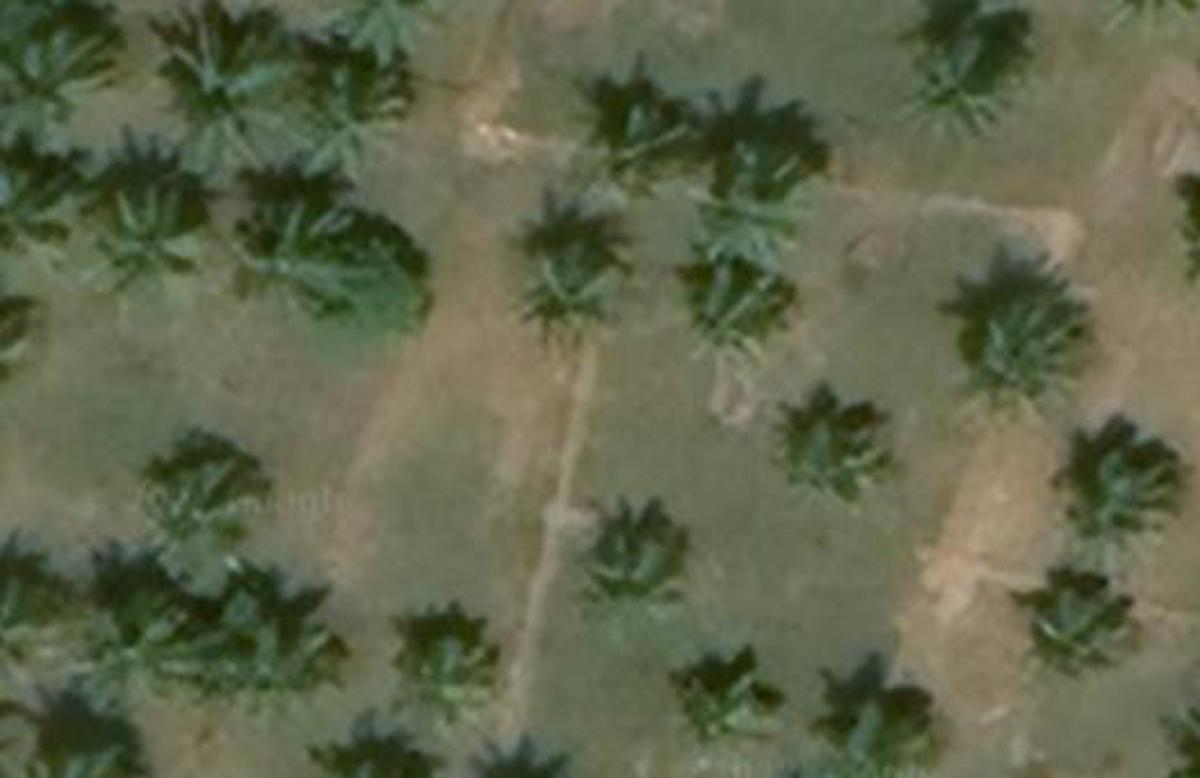coconut: (155, 13, 301, 187), (225, 203, 374, 317), (75, 187, 214, 303), (976, 292, 1097, 412), (1051, 442, 1186, 545), (214, 616, 335, 727), (289, 70, 408, 182), (508, 239, 625, 351), (695, 150, 807, 262), (1024, 579, 1145, 682), (6, 34, 127, 134), (773, 415, 892, 513), (903, 34, 1006, 143), (684, 264, 796, 362), (107, 600, 219, 698), (166, 460, 276, 556), (586, 102, 693, 200), (584, 529, 695, 622), (401, 631, 497, 727), (4, 166, 86, 269), (317, 2, 431, 68), (4, 570, 68, 686), (675, 673, 780, 743), (825, 714, 944, 768), (1101, 2, 1195, 45)
